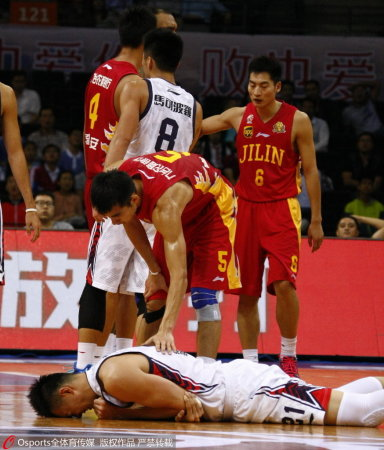10+: (1, 3, 384, 437)
down: (16, 337, 384, 436)
